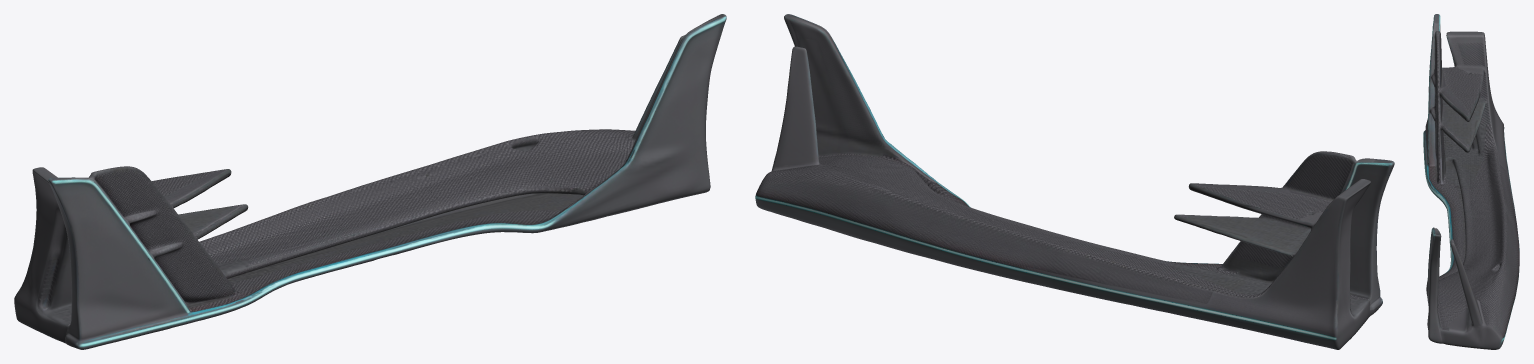
The model's file is tripo_convert_12496e3b-eba0-4ad9-a120-a7a0e8b9a321.fbx.
3 views of the same model, side by side, from view 1: azimuth 30°, elevation 25°; view 2: azimuth 150°, elevation 25°; view 3: azimuth 270°, elevation 25° (orthographic). The views are drawn at different scales.
Visible parts, largest first — view 1: tripo_node_12496e3b; view 2: tripo_node_12496e3b; view 3: tripo_node_12496e3b.
Part boxes in pixels (box(x1,y1,x2,y2)): tripo_node_12496e3b: box(14, 14, 726, 349); tripo_node_12496e3b: box(755, 14, 1394, 349); tripo_node_12496e3b: box(1423, 14, 1519, 349).
Bounding box in the file's own units: 0.9791 × 0.2475 × 0.1803.
1 material, 1 textured.
